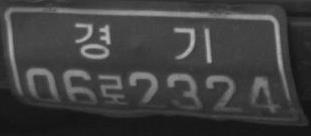0: (24, 65, 62, 104)
2: (205, 73, 243, 113), (127, 70, 165, 108)
3: (165, 71, 204, 111)
4: (244, 74, 281, 116)
6: (63, 68, 98, 106)
경기_D: (73, 22, 211, 64)
로: (98, 73, 128, 105)
